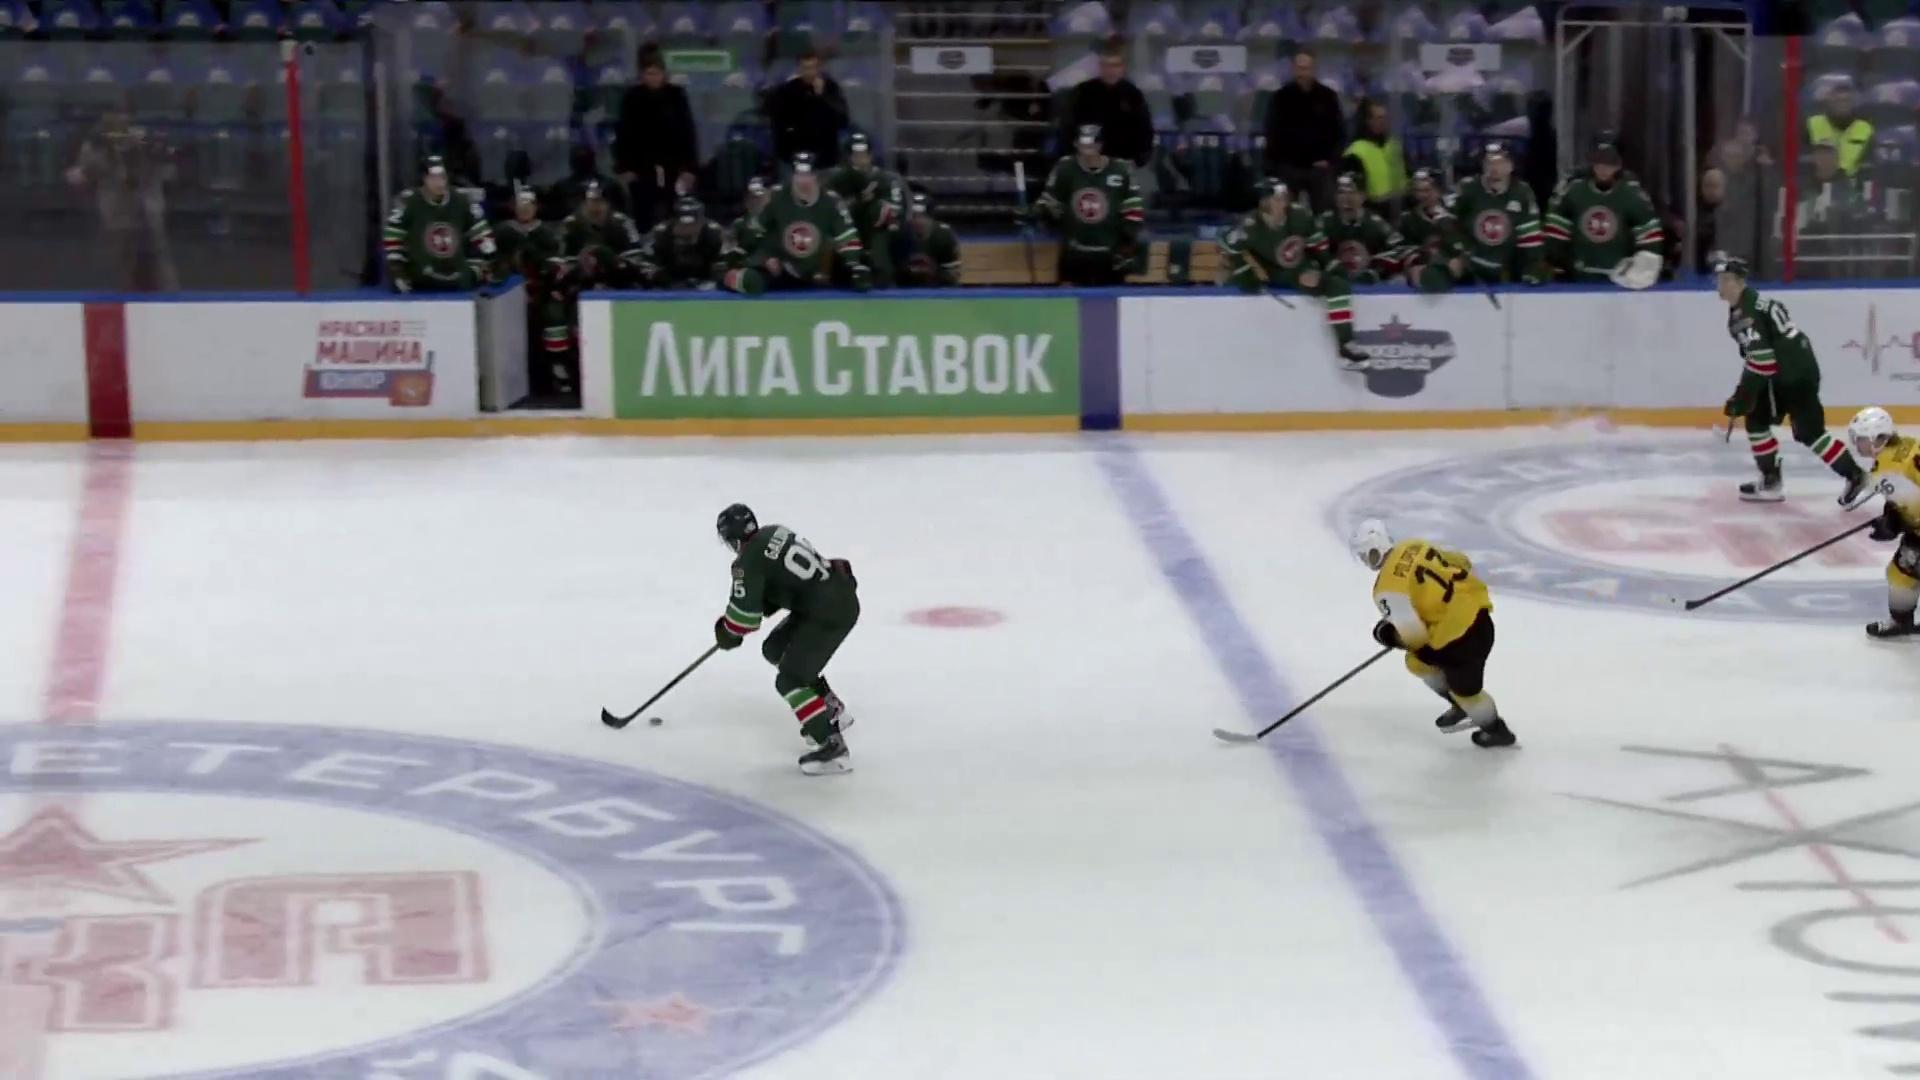ball: (649, 717, 665, 728)
